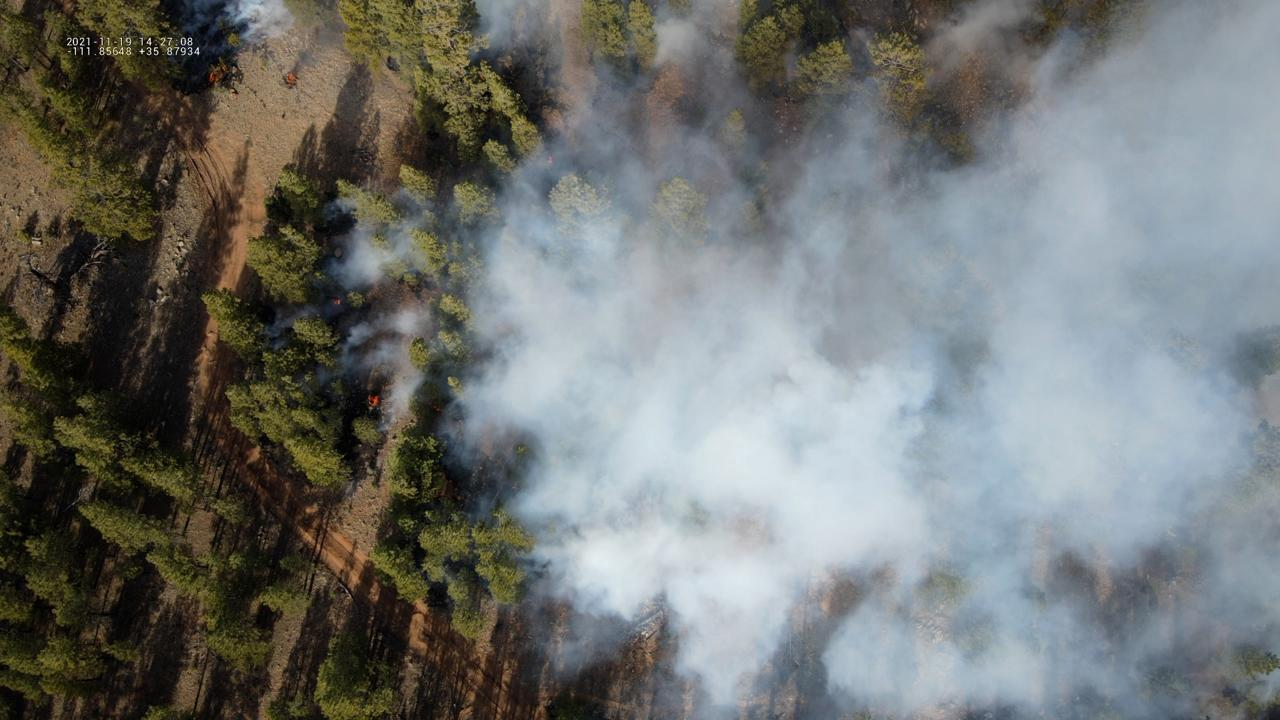fire: (367, 393, 380, 409), (285, 72, 298, 86), (207, 70, 217, 86), (332, 298, 343, 307), (546, 155, 553, 164)
smoke: (295, 0, 1280, 720), (169, 0, 298, 94), (258, 307, 294, 351)
